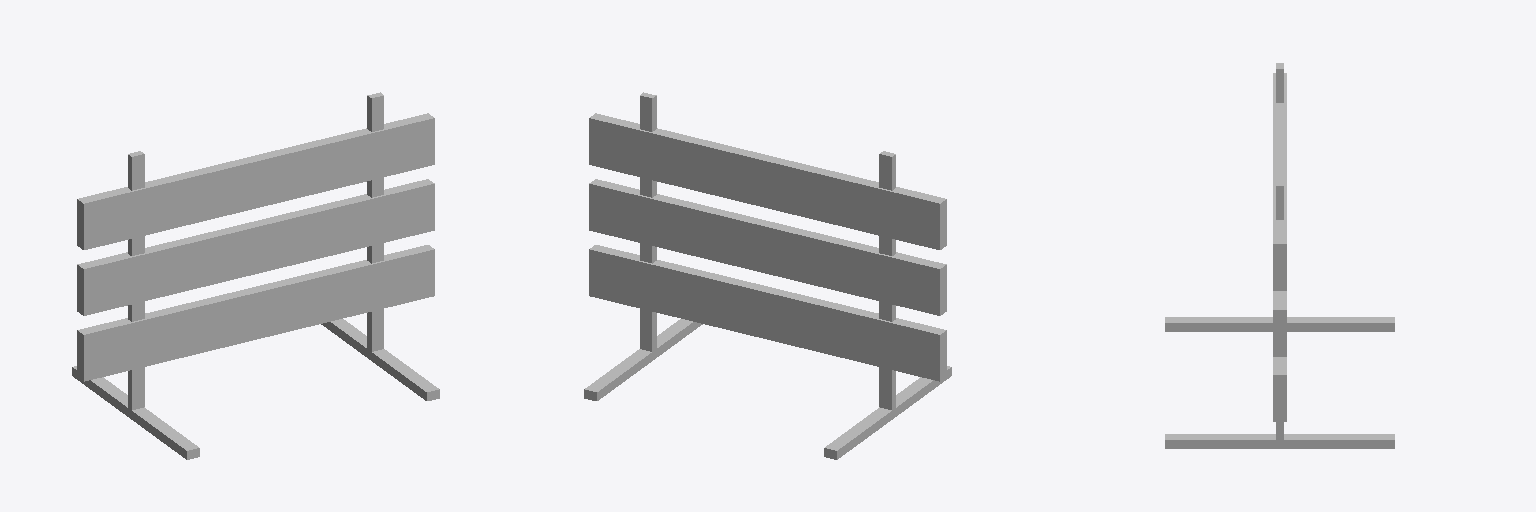
Rendered from Traffic Barrier.obj.
3 views of the same model, side by side, from view 1: azimuth 30°, elevation 25°; view 2: azimuth 150°, elevation 25°; view 3: azimuth 270°, elevation 25° (orthographic).
Visible parts, largest first — view 1: obj1; view 2: obj1; view 3: obj1.
Boxes of the visible parts, x1,y1,x2,y2 form: obj1: [72, 92, 439, 459]; obj1: [584, 92, 951, 459]; obj1: [1165, 63, 1394, 448].
Size of the model in its own units: 1.56 by 1.11 by 0.8806.